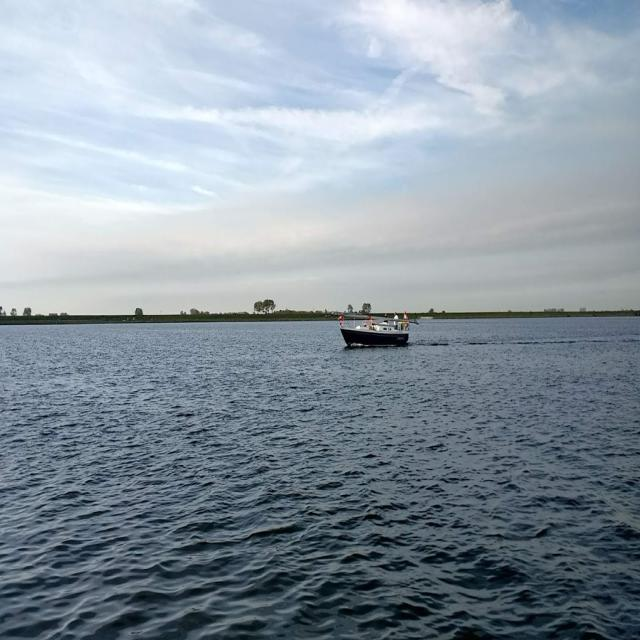houseboat: (338, 304, 413, 353)
